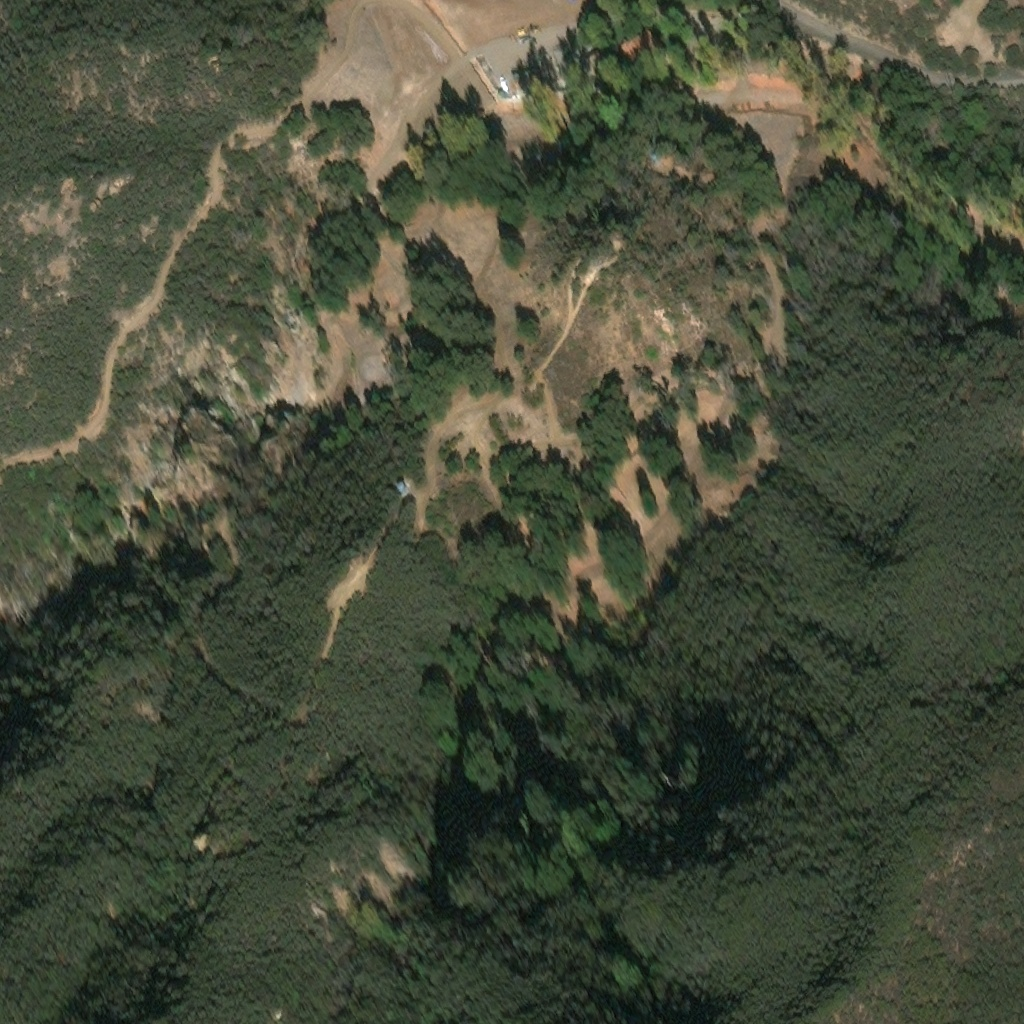4 un-classified: (618, 22, 671, 76), (578, 50, 609, 75), (562, 29, 578, 58), (512, 67, 532, 83)
